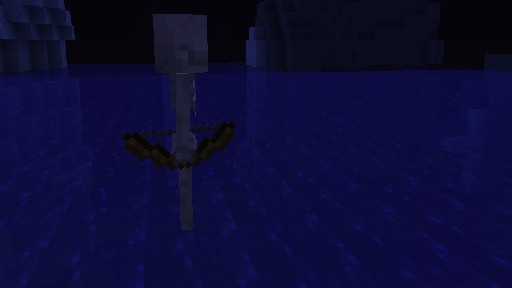skeleton: (122, 13, 236, 230)
